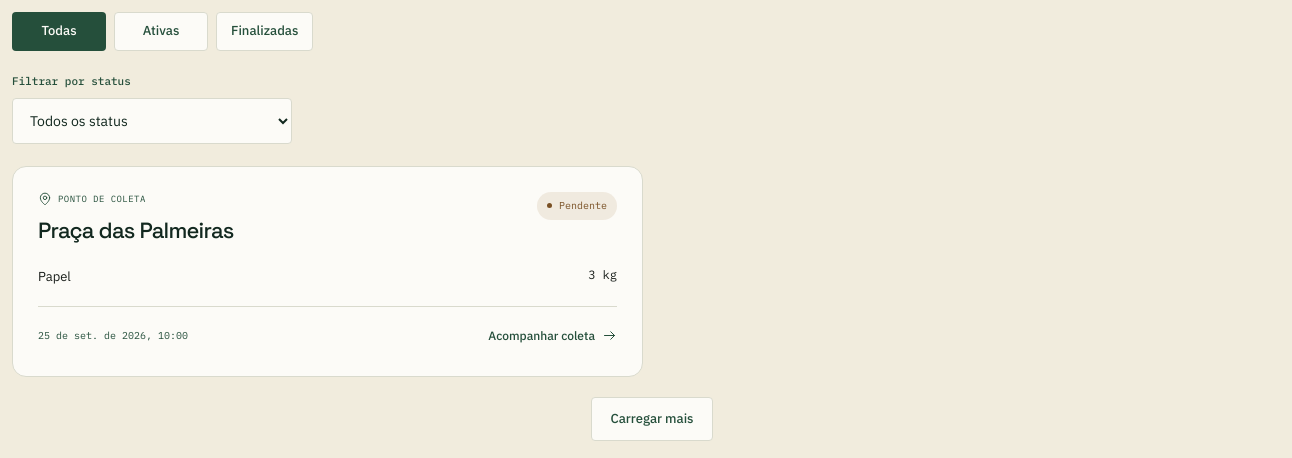
Test: CollectionHistoryList › loads another cursor page and accumulates its collections
Expected: the heading "Praça das Palmeiras" is shown, [38,214,234,246]
Click the button "Carregar mais" at (652, 419), box [591,397,712,441]
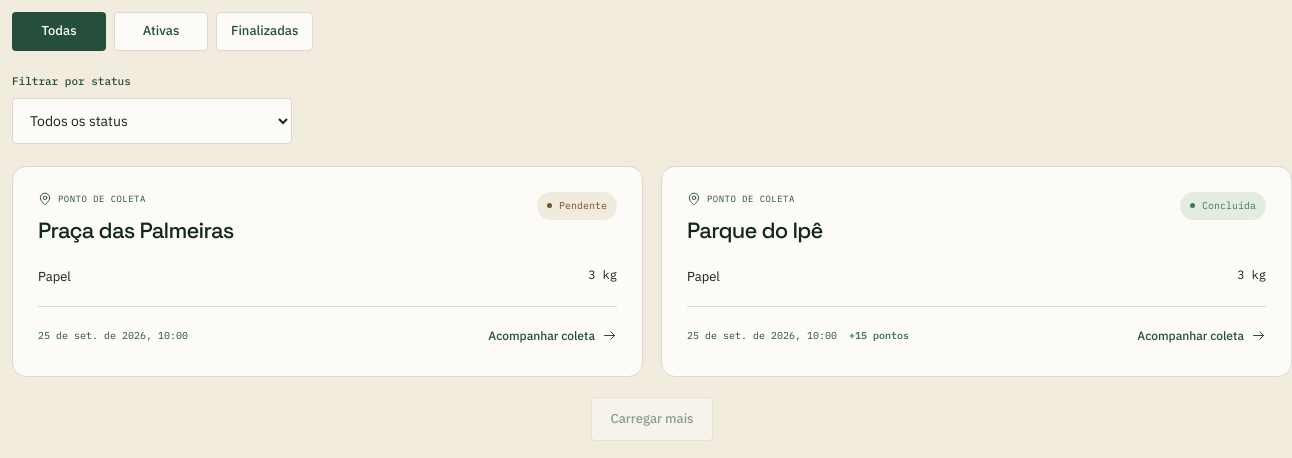
Expected: the heading "Praça das Palmeiras" is shown, [38,214,234,246]
Expected: the heading "Parque do Ipê" is shown, [687,214,823,246]
